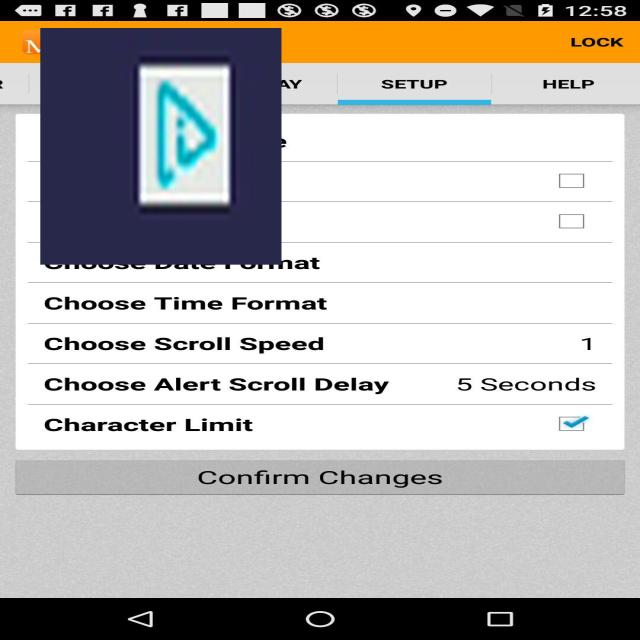sneaking: (41, 28, 282, 265)
